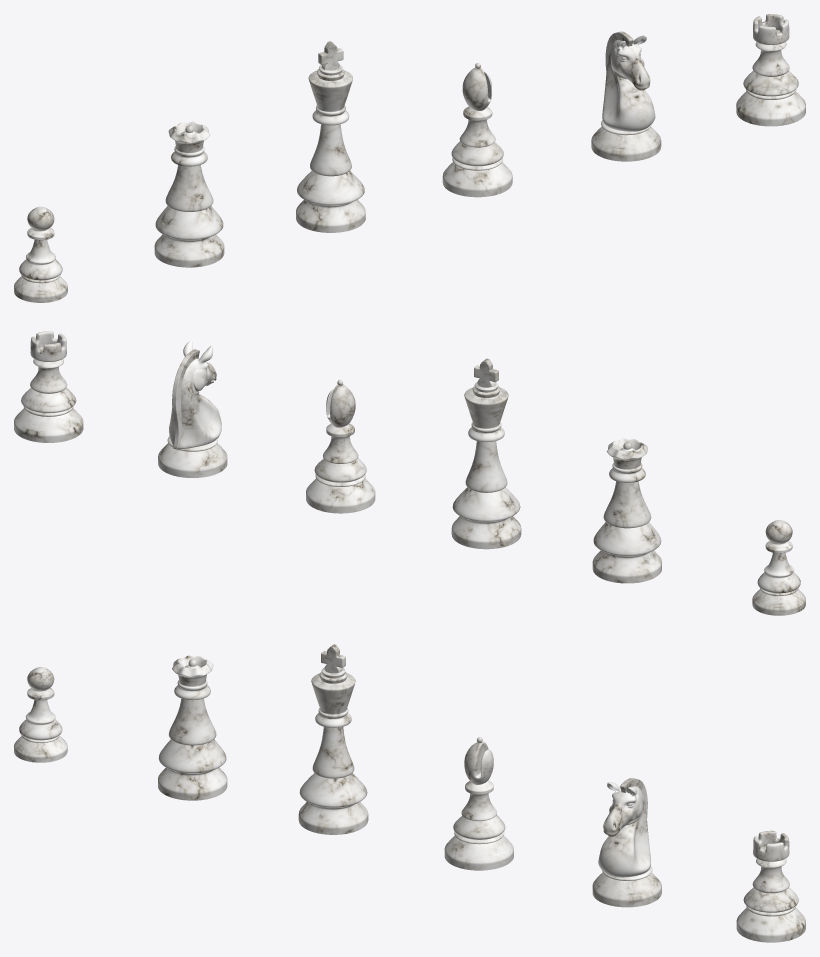
The model's file is pieces.fbx.
The picture shows the model from 3 angles, top to bottom: view 1: azimuth 30°, elevation 25°; view 2: azimuth 150°, elevation 25°; view 3: azimuth 330°, elevation 25°; orthographic projection.
Visible parts, largest first — view 1: King, Queen, Knight, Bishop, Tower, Pawn; view 2: King, Queen, Knight, Bishop, Tower, Pawn; view 3: King, Queen, Knight, Bishop, Tower, Pawn.
Part boxes in pixels (box(x1,y1,x2,y2)): King: box(296, 41, 365, 232); Queen: box(154, 121, 224, 267); Knight: box(591, 31, 661, 161); Bishop: box(442, 63, 512, 197); Tower: box(736, 14, 805, 126); Pawn: box(14, 206, 67, 302); King: box(451, 358, 521, 549); Queen: box(592, 438, 661, 583); Knight: box(158, 340, 227, 477); Bishop: box(306, 379, 375, 513); Tower: box(14, 331, 83, 442); Pawn: box(752, 520, 805, 615); King: box(298, 644, 368, 834); Queen: box(158, 655, 227, 800); Knight: box(592, 778, 661, 907); Bishop: box(444, 737, 513, 870); Tower: box(736, 830, 805, 942); Pawn: box(14, 667, 67, 762).
Bounding box in the file's own units: 164 × 35.23 × 13.93.
